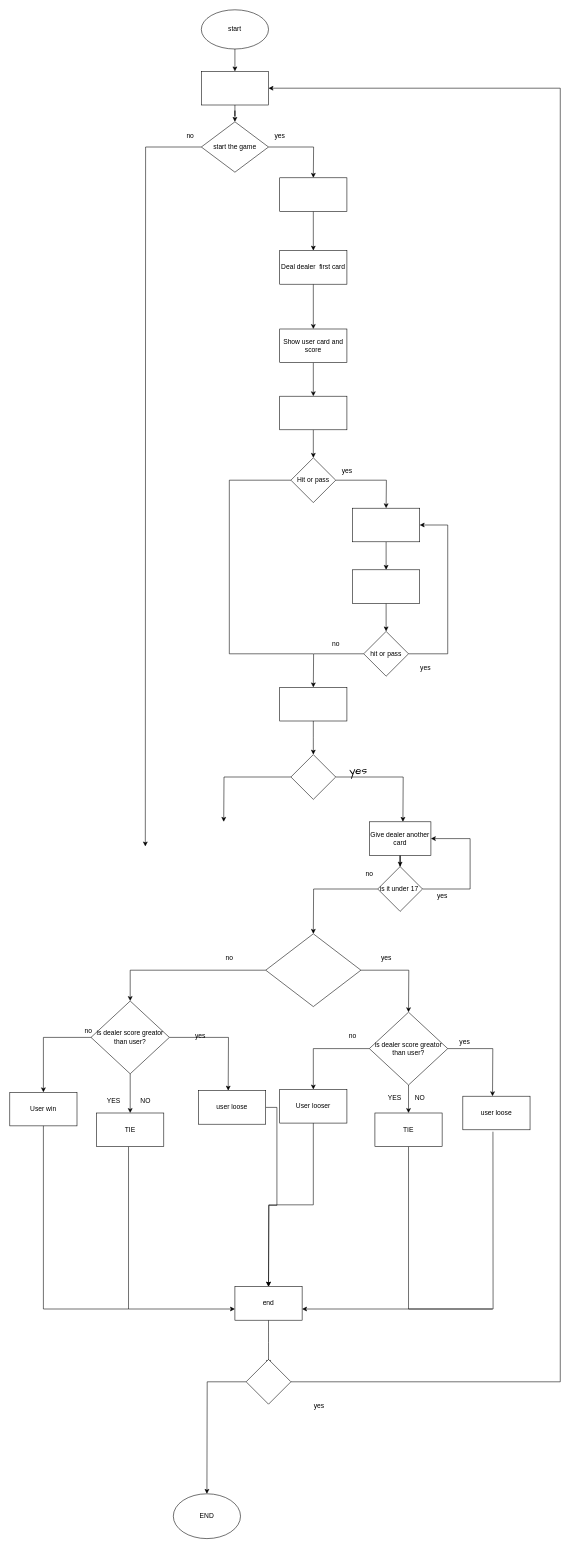
This 575x1548 diagram has some shape labels left out. The shapes that lost their labels are listed below. From the top down, each one's centre as x and y in pixels, then its label:
the point at 235,88: Show logo
the point at 313,194: Deal the user cards
the point at 313,413: Sho the dealer first cards
the point at 386,525: Deal the user another card
the point at 386,586: and given score
the point at 313,704: show dealer second card
the point at 313,776: is dealer score under 17
the point at 313,970: is user score greater than 21?
the point at 268,1381: Play again?
